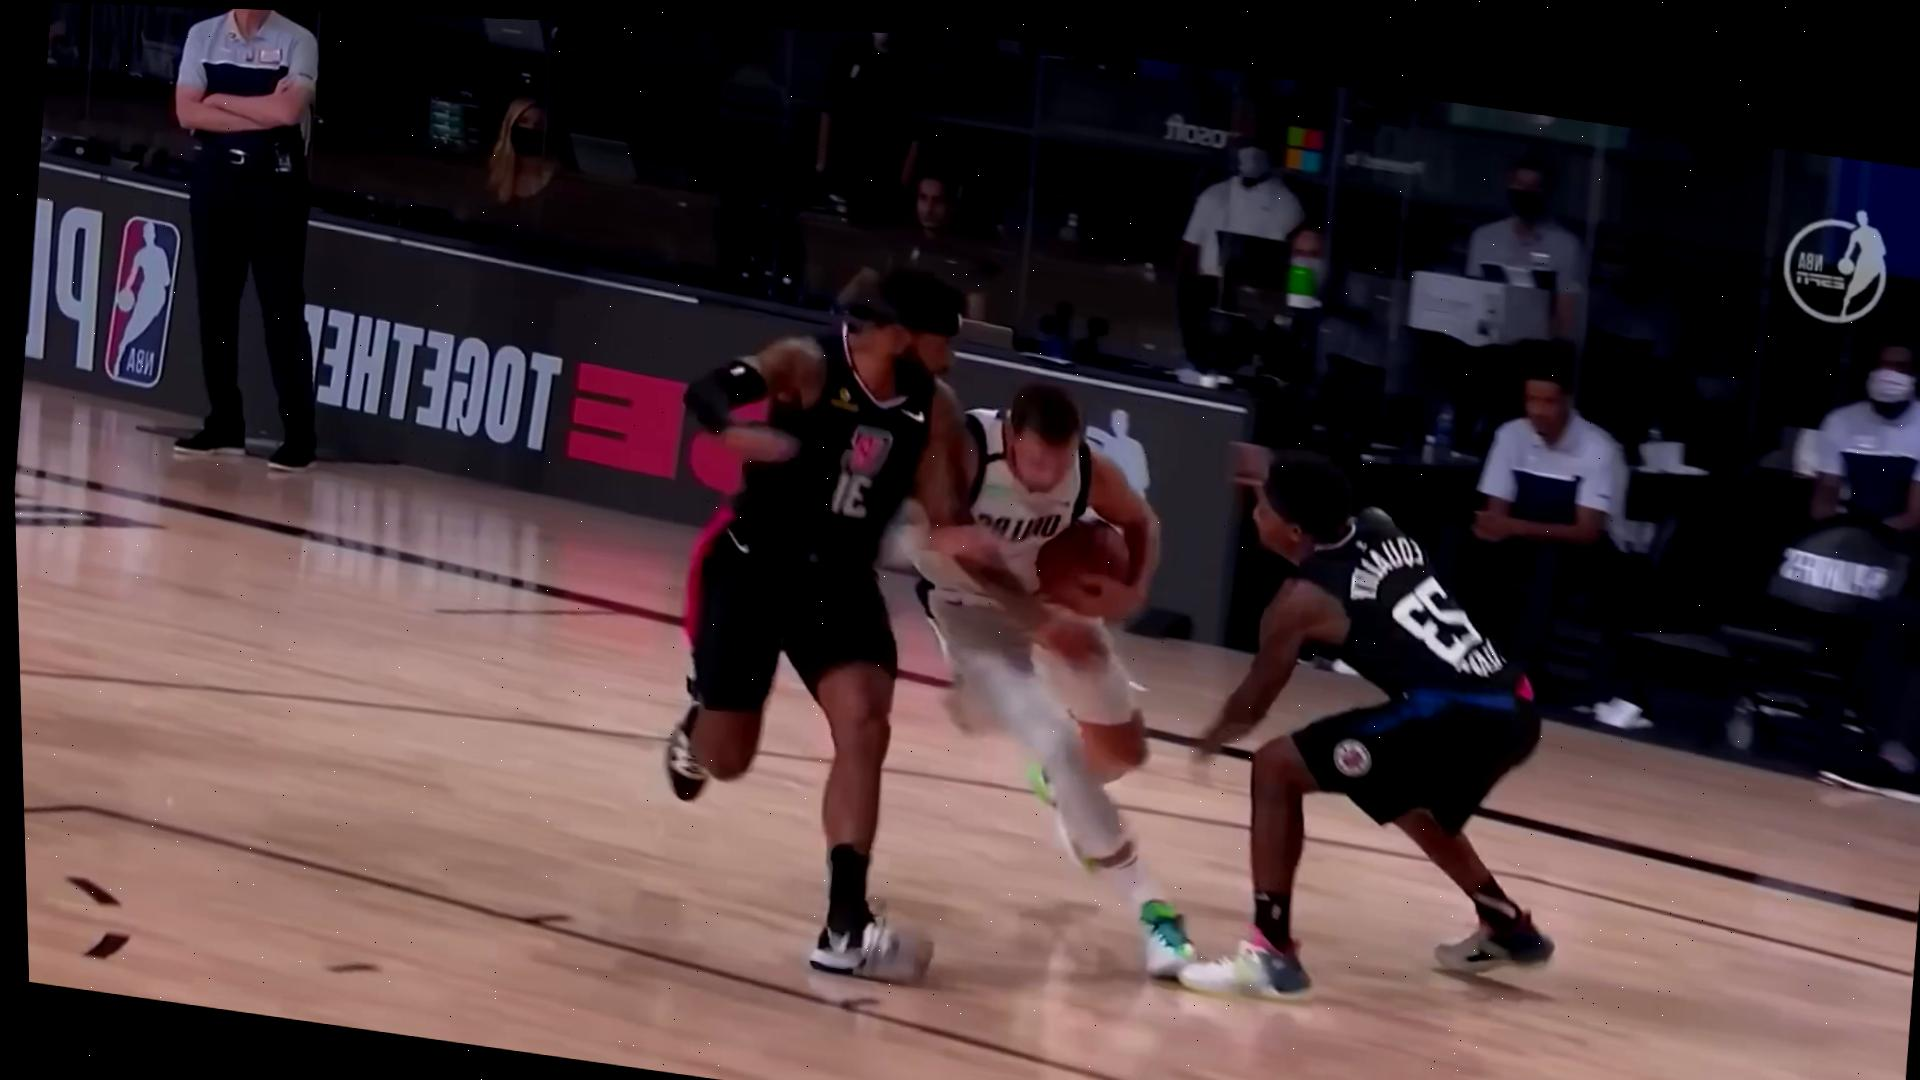no_foul: (547, 189, 1274, 1056)
